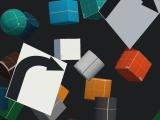Right: (5, 42, 67, 115), (98, 0, 160, 49)
